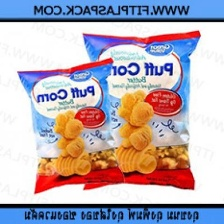snack: (76, 23, 205, 196), (12, 52, 130, 199)
